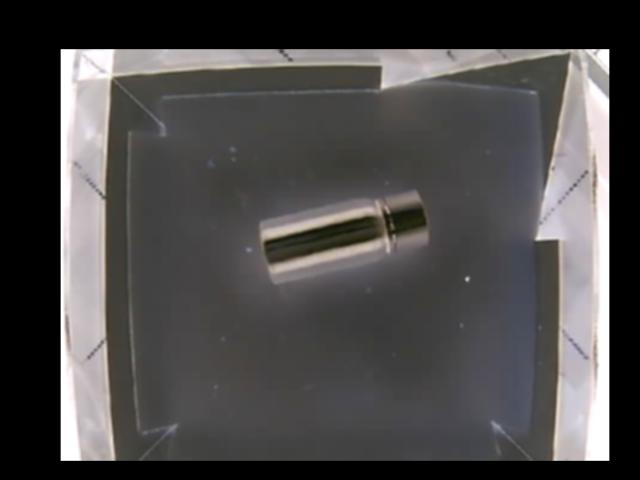Bottle: (259, 188, 429, 284)
